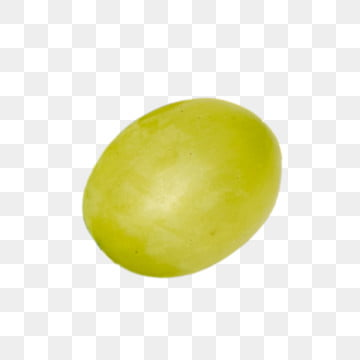grapes: (78, 90, 287, 285)
